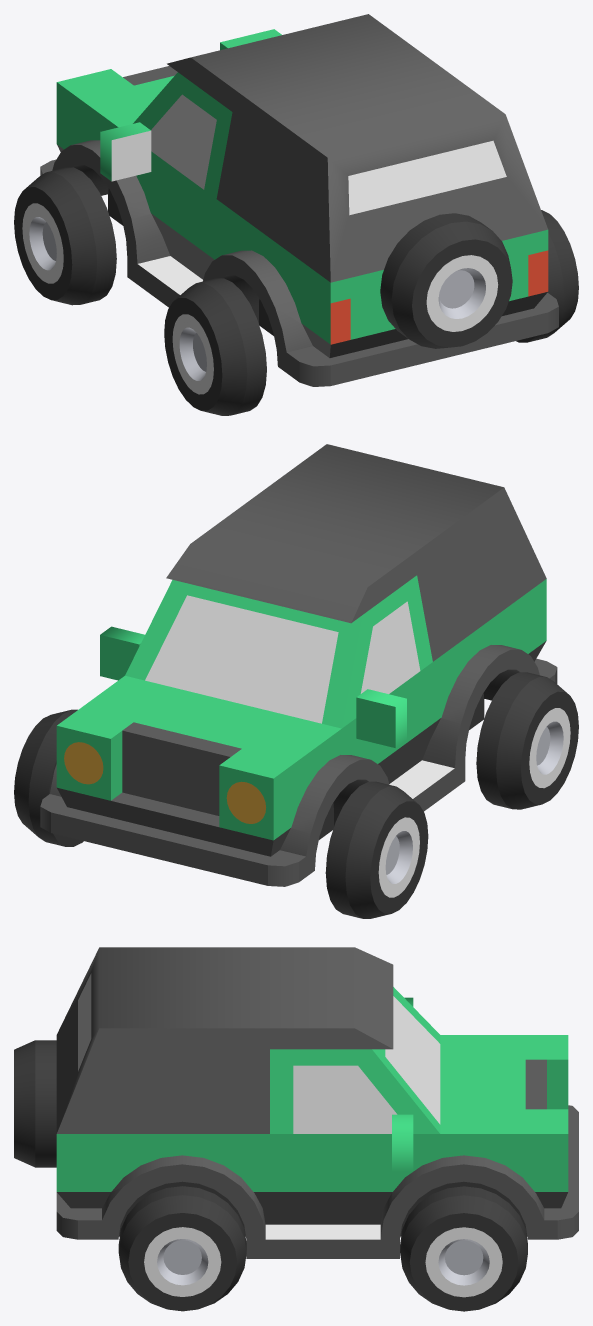
Rendered from sedanSports.glb.
The picture shows the model from 3 angles, top to bottom: view 1: azimuth 30°, elevation 25°; view 2: azimuth 150°, elevation 25°; view 3: azimuth 270°, elevation 25°; orthographic projection. The views are drawn at different scales.
Parts seen in each view (by area): view 1: body.001, wheel_back, wheel_frontLeft, wheel_backLeft, wheel_backRight; view 2: body.001, wheel_backLeft, wheel_frontLeft, wheel_frontRight; view 3: body.001, wheel_backRight, wheel_frontRight, wheel_back.
Part boxes in pixels (<box>): body.001: <box>40,14,558,386</box>; wheel_back: <box>380,213,512,348</box>; wheel_frontLeft: <box>14,167,116,305</box>; wheel_backLeft: <box>164,278,266,415</box>; wheel_backRight: <box>516,210,578,342</box>; body.001: <box>40,444,557,886</box>; wheel_backLeft: <box>476,672,578,809</box>; wheel_frontLeft: <box>325,781,428,918</box>; wheel_frontRight: <box>14,709,83,846</box>; body.001: <box>56,947,578,1258</box>; wheel_backRight: <box>118,1186,246,1311</box>; wheel_frontRight: <box>400,1186,527,1311</box>; wheel_back: <box>14,1040,56,1167</box>.
Bounding box in the file's own units: 1.81 × 1.3 × 2.65.
